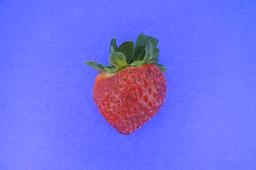red strawberry: (93, 46, 169, 136)
